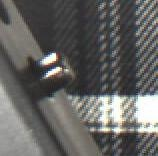screw: (29, 50, 74, 101)
